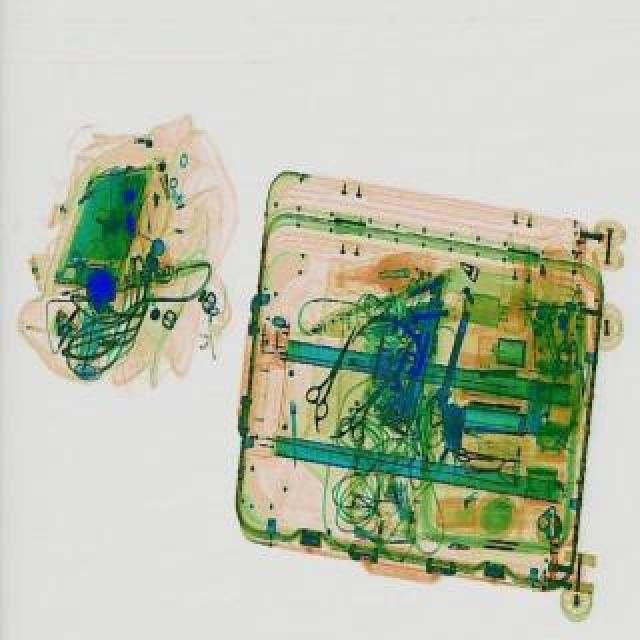pliers: (296, 318, 368, 418), (334, 362, 408, 444), (452, 442, 506, 464), (460, 458, 516, 472)
